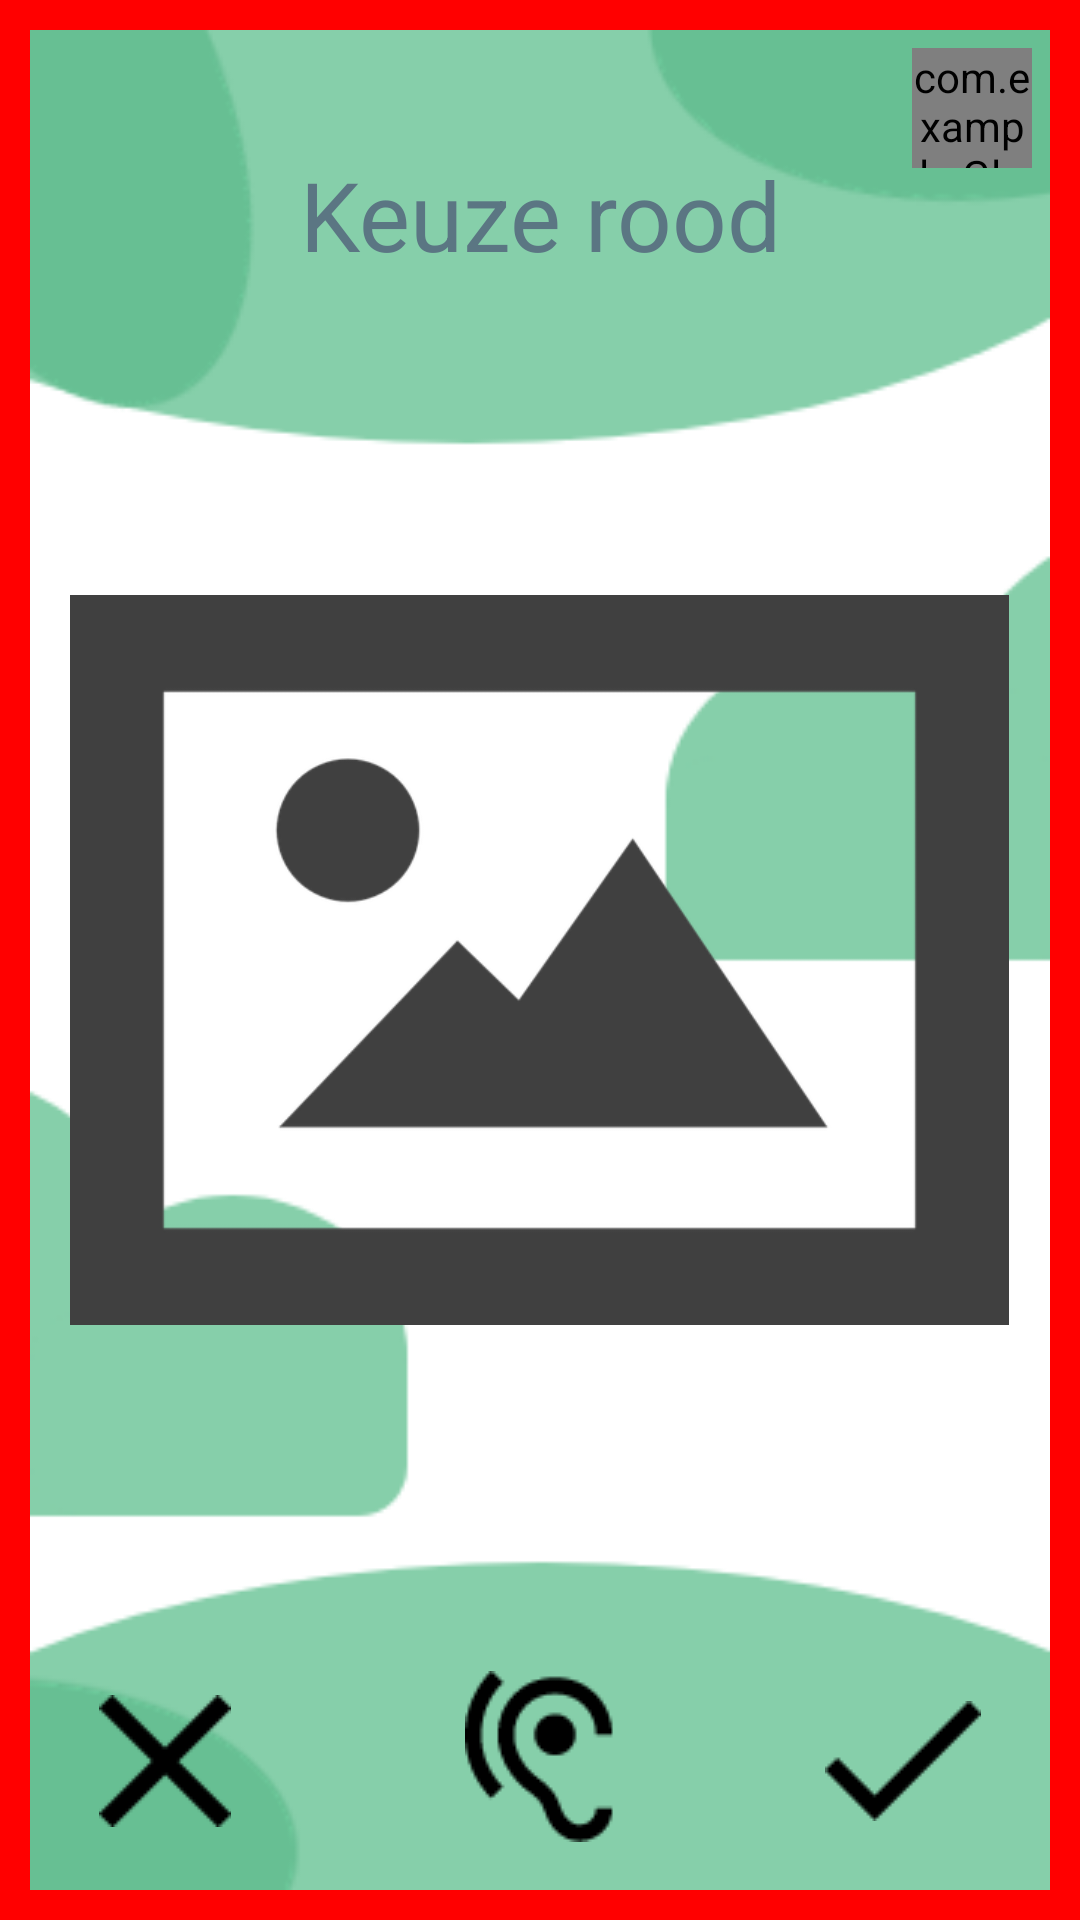

Icon click points for this 1080×1920 phone screenshot, format [x,y]:
checkmark: [903,1761]
cross: [165,1761]
pictogram oortje: [539,1756]
